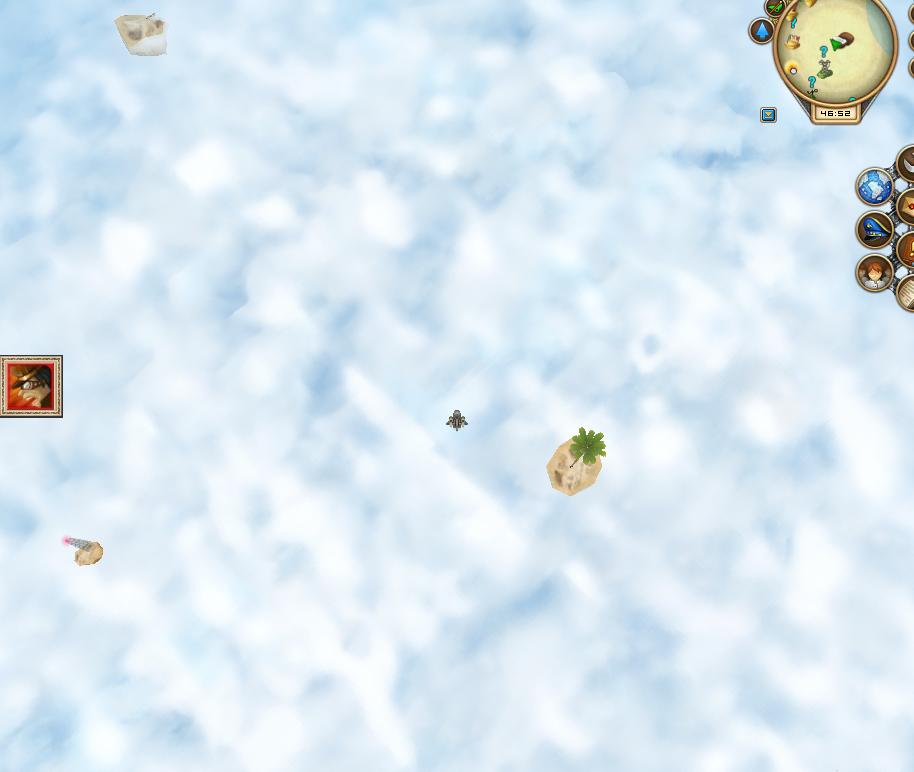dandelion-empty: (543, 422, 609, 500)
